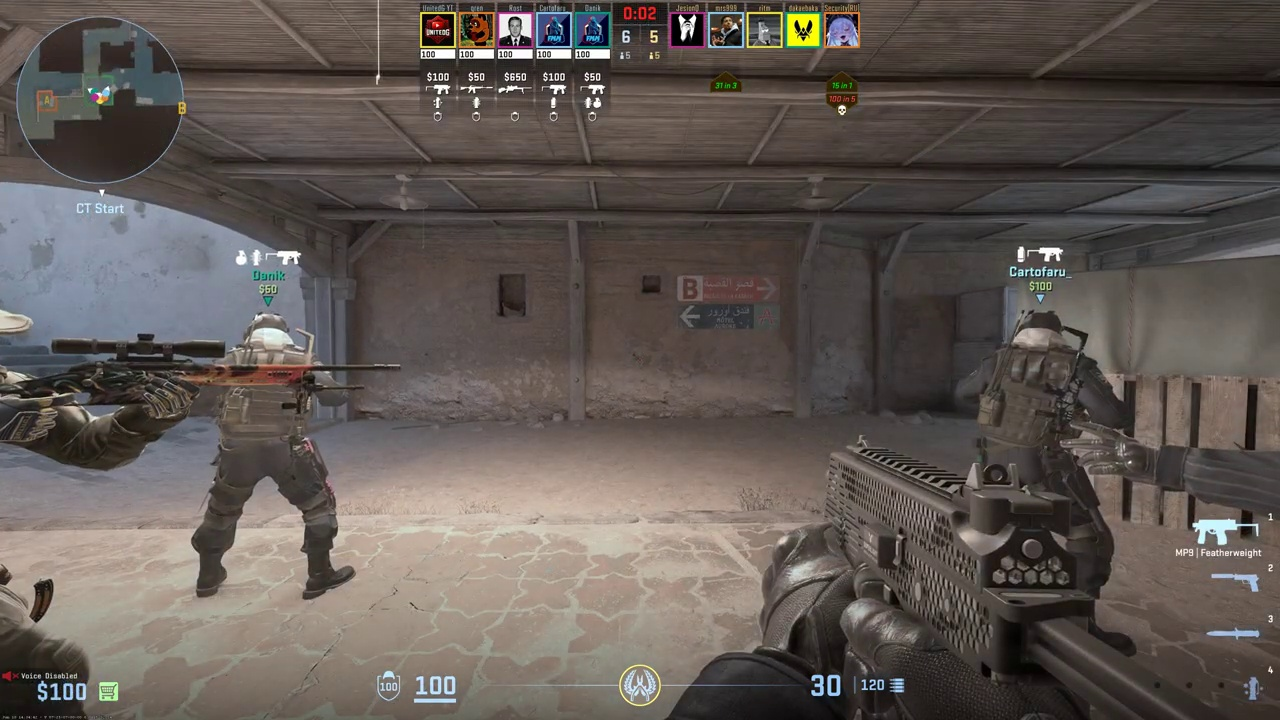CT: (968, 309, 1125, 636), (206, 309, 342, 593), (0, 293, 76, 720)
